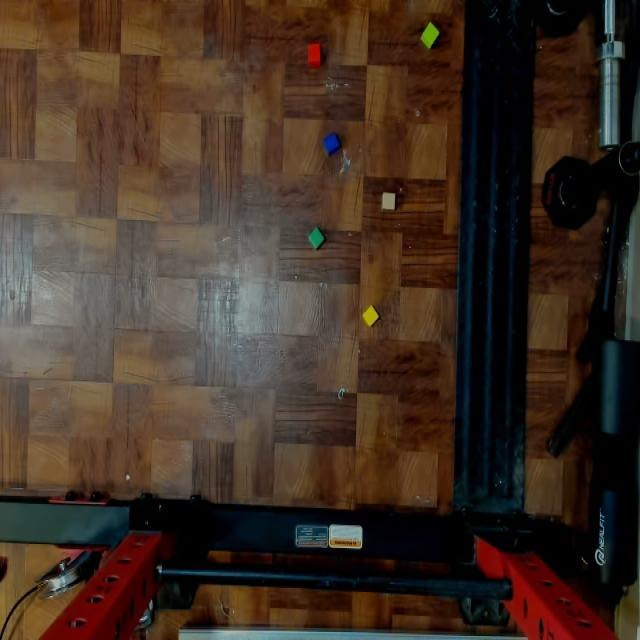block: (421, 21, 439, 48), (323, 133, 340, 155), (308, 229, 325, 249), (363, 305, 379, 325), (308, 43, 321, 67), (381, 193, 395, 211)
